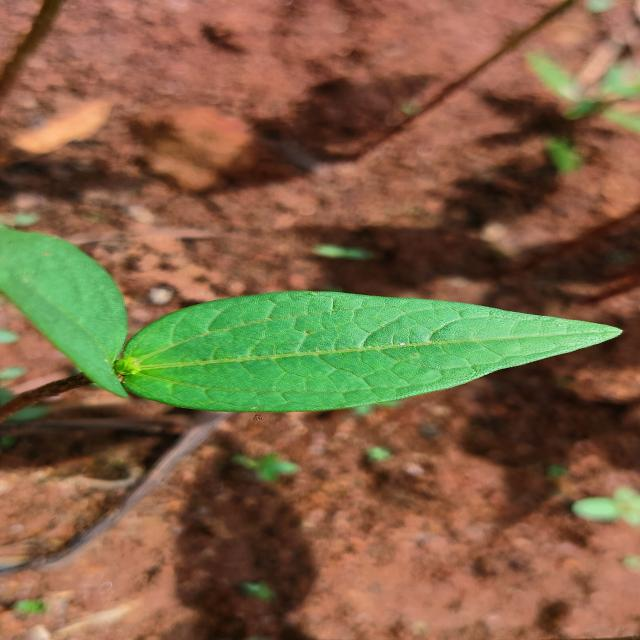Black gram_healthy: (122, 292, 624, 414)
